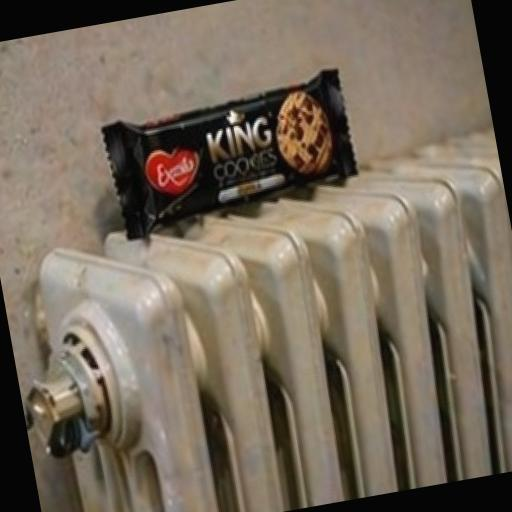king_cooking: (38, 16, 432, 290)
